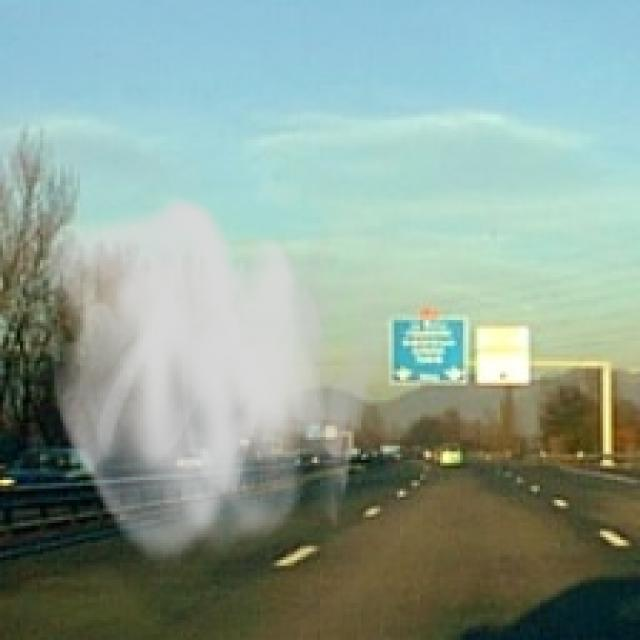smoke: (37, 194, 394, 572)
